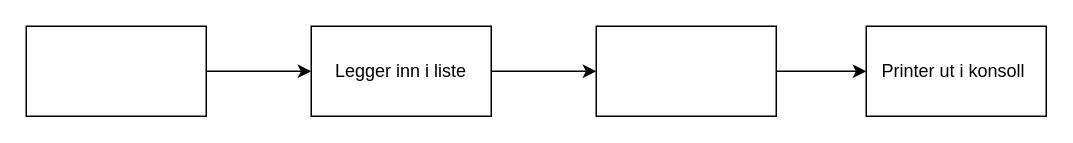
Some shapes in this 1073 by 143 pixel diagram are drawn without their labels. The centre of each missing label's shape, as x and y in pixels:
"Formaterer via toString()" belongs at pixel 685 70.
"Henter registrert informasjon basert på prosjekt_ID" belongs at pixel 115 70.
